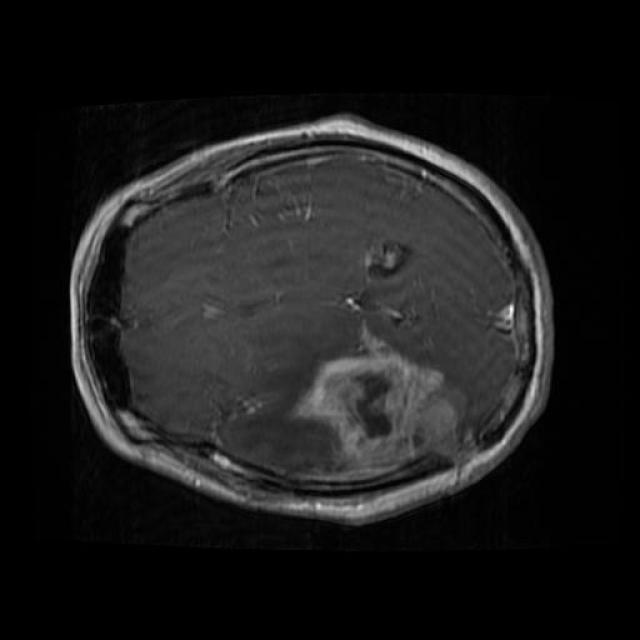Glioma: (296, 330, 458, 457)
